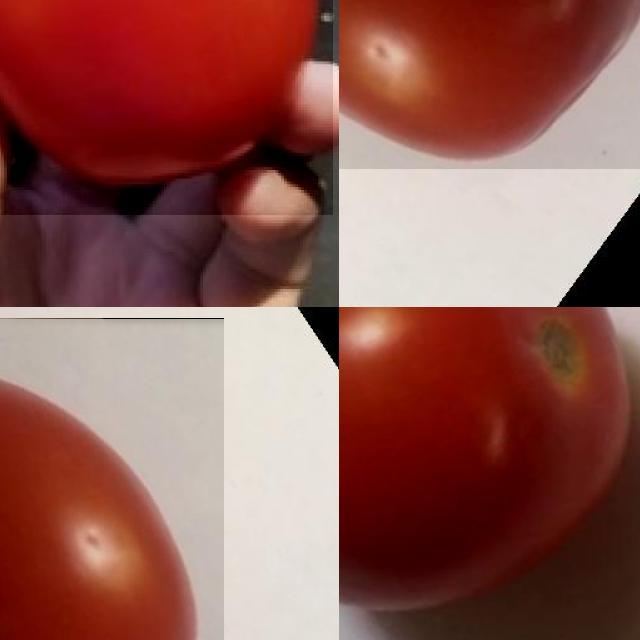Fresh Tomato: (339, 307, 640, 640), (0, 318, 223, 640), (0, 0, 333, 215), (339, 0, 640, 169)
